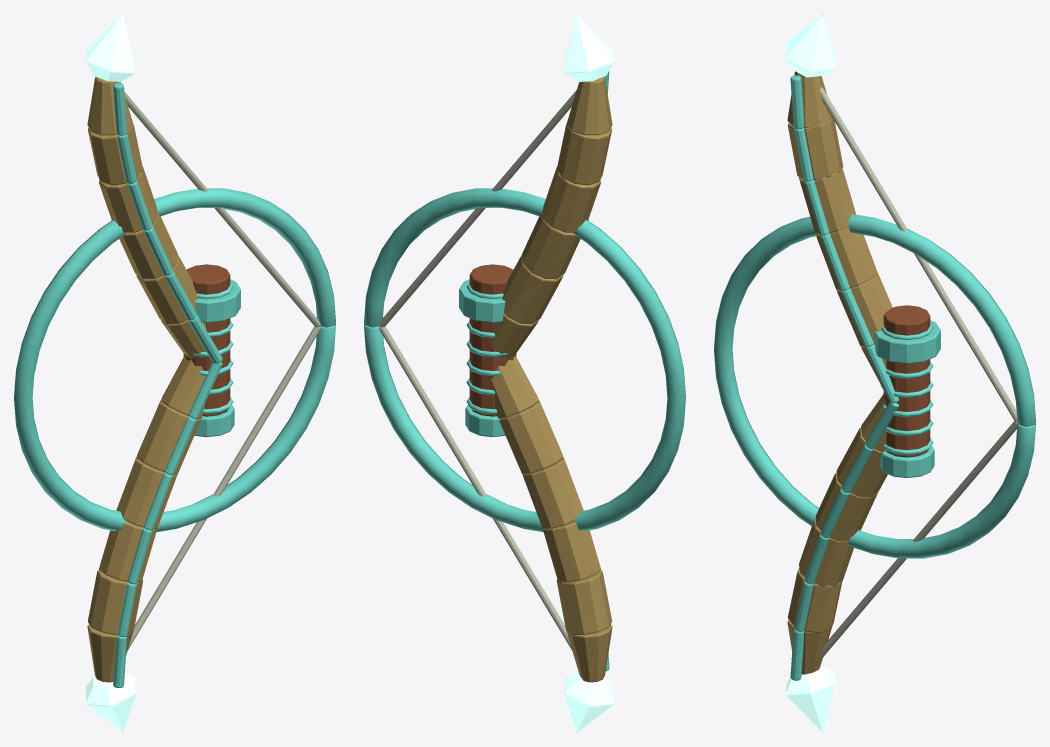
File: item_034.glb
3 views of the same model, side by side, from view 1: azimuth 30°, elevation 25°; view 2: azimuth 150°, elevation 25°; view 3: azimuth 330°, elevation 25° (orthographic).
Parts seen in each view (by area): view 1: Item_034_comet_orbitbow; view 2: Item_034_comet_orbitbow; view 3: Item_034_comet_orbitbow.
Boxes of the visible parts, <box> form: Item_034_comet_orbitbow: <box>14,14,335,732</box>; Item_034_comet_orbitbow: <box>364,14,685,732</box>; Item_034_comet_orbitbow: <box>714,14,1035,732</box>.
Size of the model in its own units: 0.8057 by 1.72 by 0.1472.
